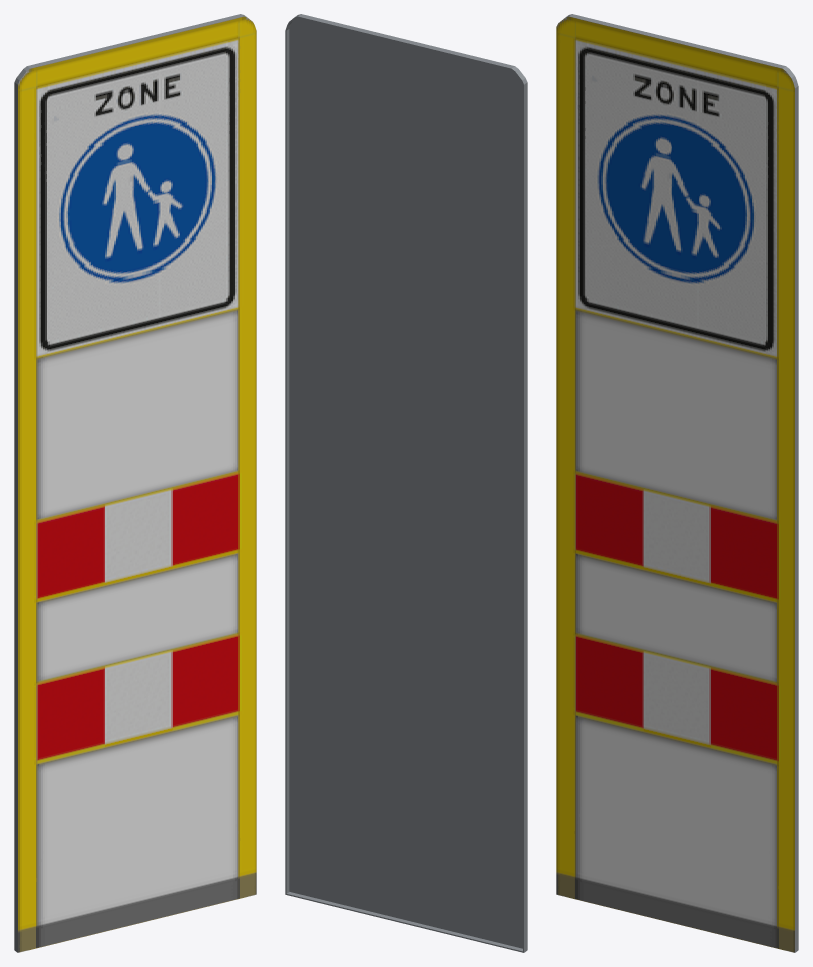
3 renders of one model, left to right at view 1: azimuth 30°, elevation 25°; view 2: azimuth 150°, elevation 25°; view 3: azimuth 330°, elevation 25°, orthographic.
Visible parts, largest first — view 1: cat_ab13269f0aef3988; view 2: cat_ab13269f0aef3988; view 3: cat_ab13269f0aef3988.
Boxes of the visible parts, x1=… form: cat_ab13269f0aef3988: x1=14, y1=14, x2=256, y2=952; cat_ab13269f0aef3988: x1=285, y1=14, x2=527, y2=952; cat_ab13269f0aef3988: x1=556, y1=14, x2=798, y2=952.
Size of the model in its own units: 0.6 by 0.015 by 2.12.
Materials: 2 (1 with a texture image).
